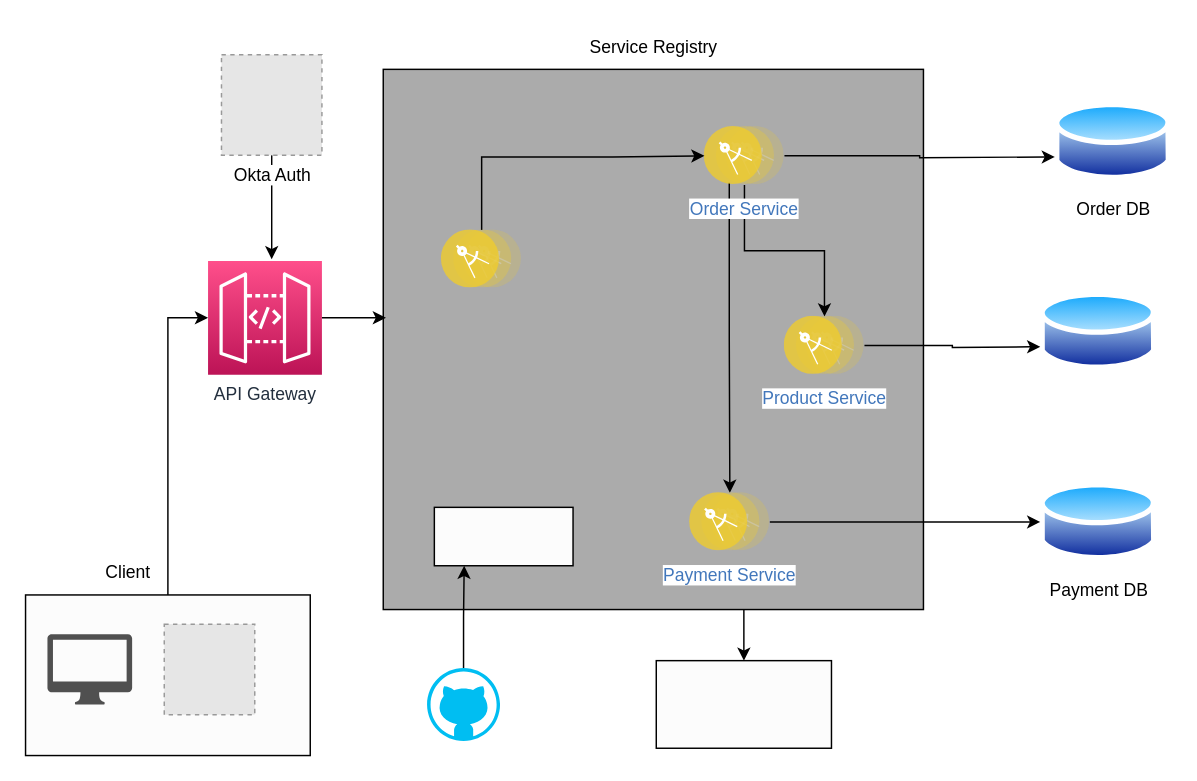
Image size: 1197x781. Some labels were removed from this diagram. Grey dashed boxes stand in for pictures. The centre of each missing label's shape, as x and y in pixels:
"Config Server" goes at [503,536].
"Product DB" goes at [1098,331].
"Sleuth/zipkin" goes at [743,703].
"User Service" goes at [481,258].
